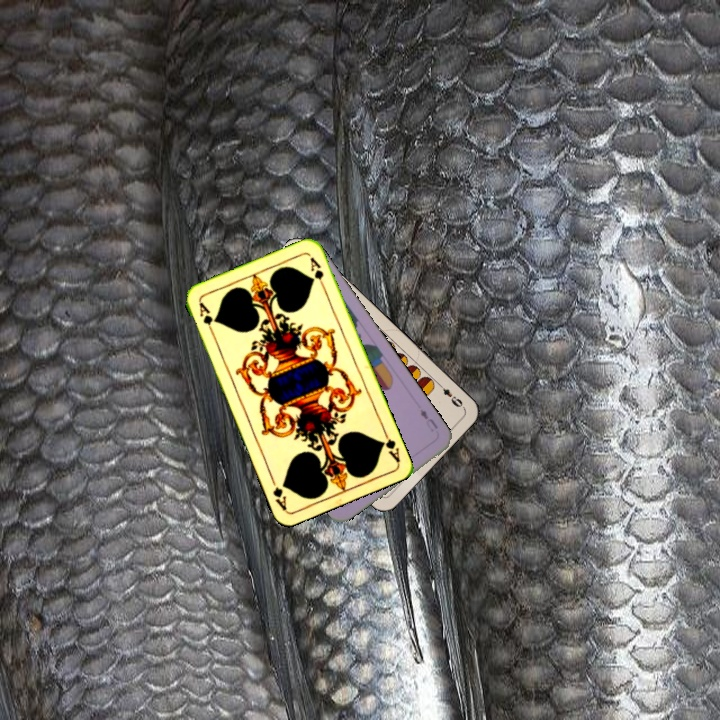E9: (433, 379, 466, 411)
EU: (416, 404, 440, 435)
GA: (376, 426, 402, 464), (195, 298, 217, 337)
